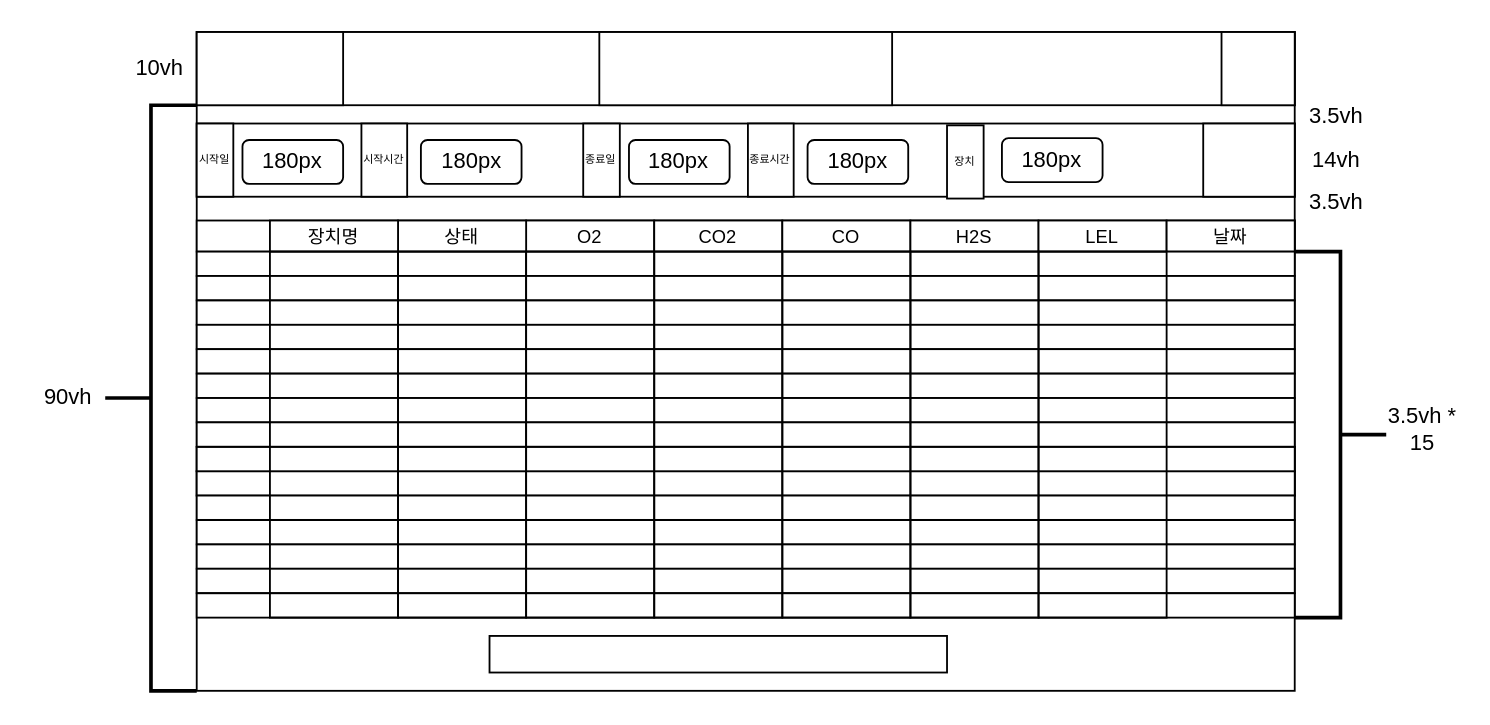
This 1490x725 diagram has some shape labels left out. The shapes that lost their labels are listed below. From the top down, each one's box as (x1, y1, x2, y2) in pixels, then its label:
(195, 30, 343, 105): 로고이미지
(597, 30, 892, 105): 타이틀
(1220, 30, 1295, 105): 종료 버튼
(1201, 122, 1295, 197): 저장버튼
